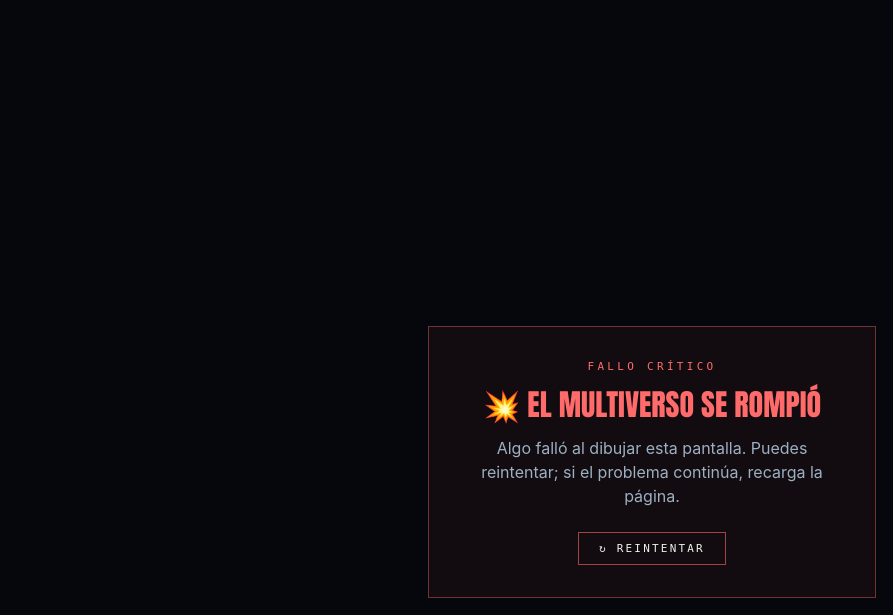
Test case: ErrorBoundary › muestra el fallback y vuelve a montar el contenido al reintentar
expect the heading "💥 El multiverso se rompió" is shown: met, box x1=461 y1=386 x2=843 y2=424
Click the button "↻ Reintentar".
click(652, 548)  # box x1=578 y1=532 x2=726 y2=565
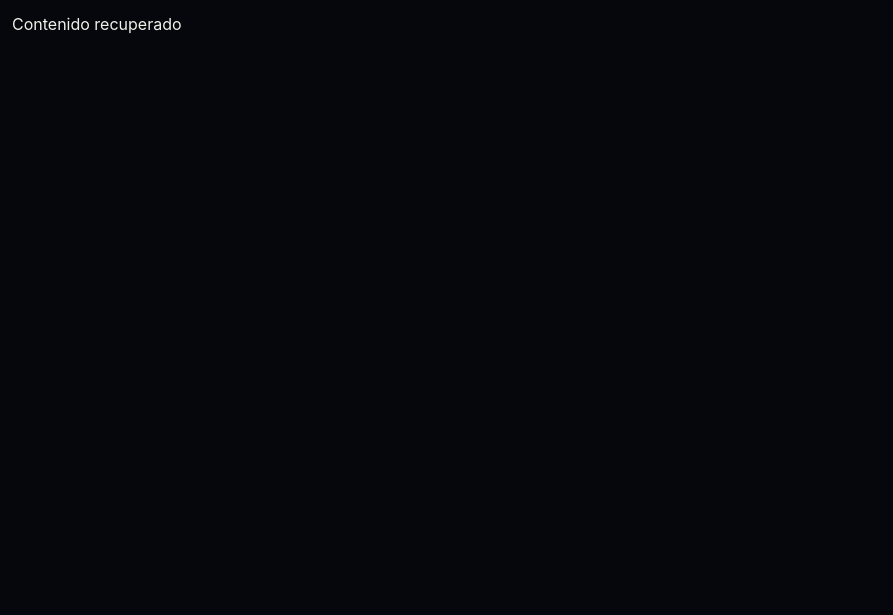
expect the text "Contenido recuperado" is shown: met, box x1=12 y1=14 x2=182 y2=34
